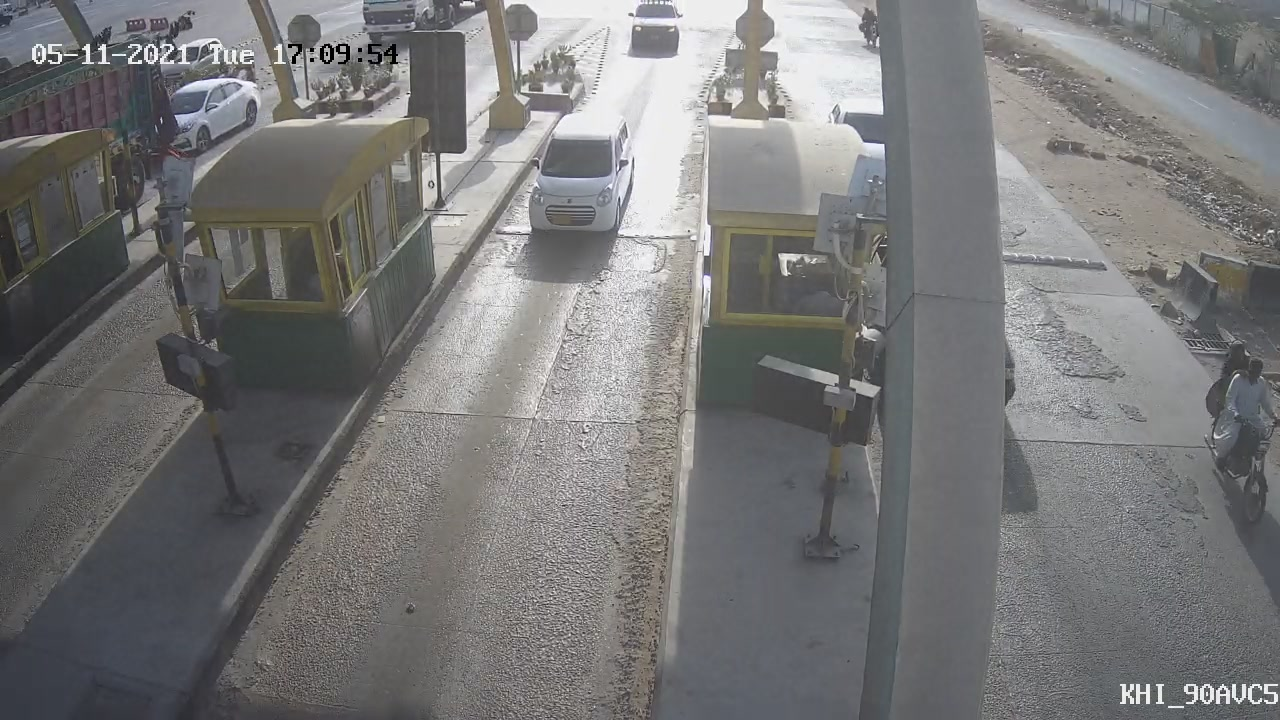F1: (503, 98, 652, 252)
